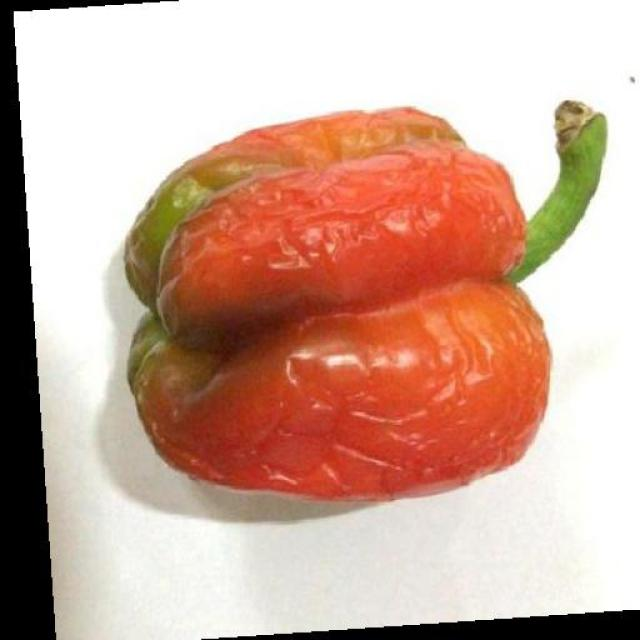Stale_Capsicum: (125, 106, 593, 514)
